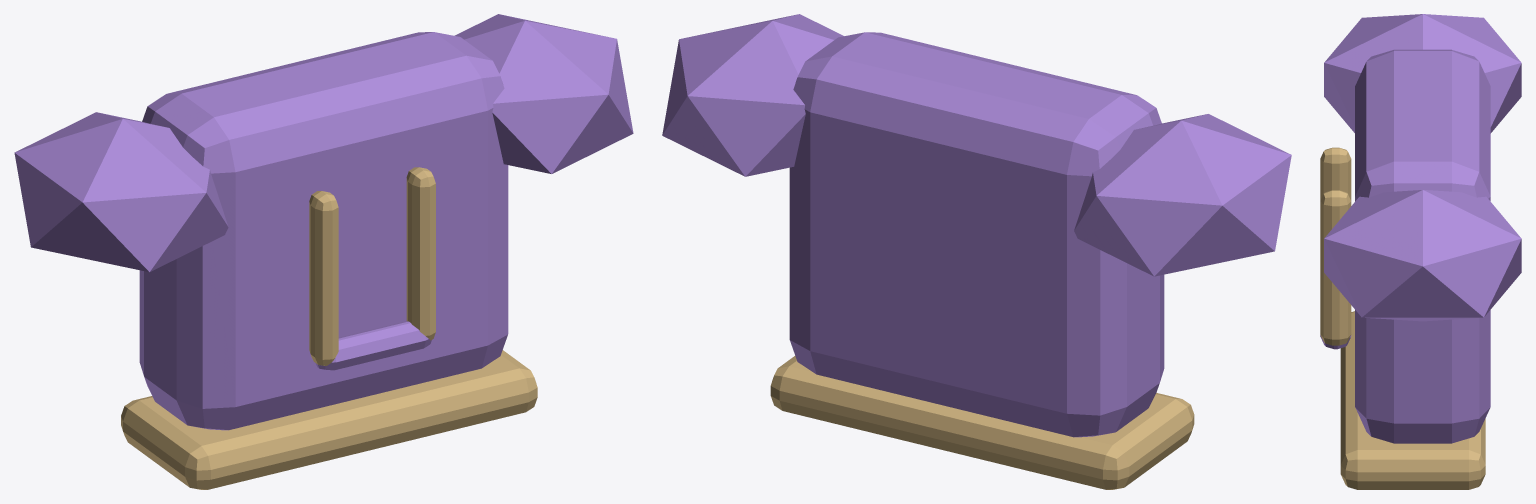
The model's file is arm_echo_armor.glb.
3 renders of one model, left to right at view 1: azimuth 30°, elevation 25°; view 2: azimuth 150°, elevation 25°; view 3: azimuth 270°, elevation 25°, orthographic. The views are drawn at different scales.
Visible parts, largest first — view 1: arm_echo_armor; view 2: arm_echo_armor; view 3: arm_echo_armor.
Boxes of the visible parts, left/top/right/bottom form: arm_echo_armor: left=14, top=14, right=633, bottom=489; arm_echo_armor: left=662, top=14, right=1291, bottom=489; arm_echo_armor: left=1320, top=14, right=1521, bottom=489.
Bounding box in the file's own units: 1.25 × 0.725 × 0.4162.
